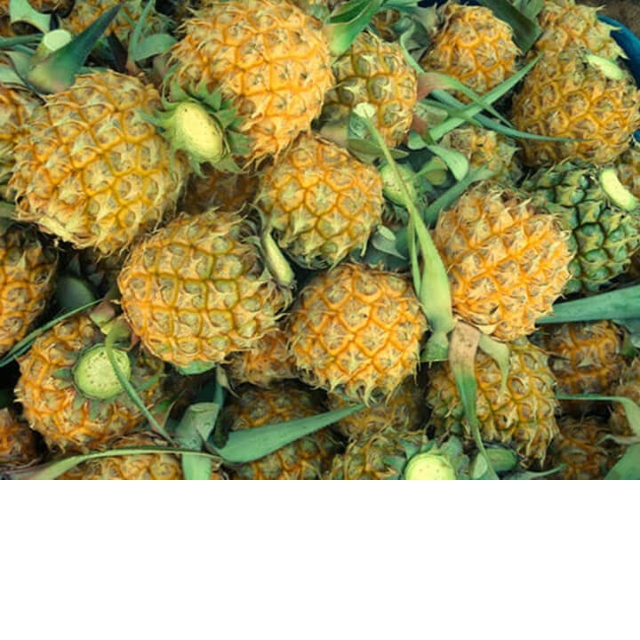thom: (15, 60, 183, 247), (150, 4, 340, 157), (111, 206, 281, 374), (418, 180, 574, 348), (278, 252, 433, 408)
